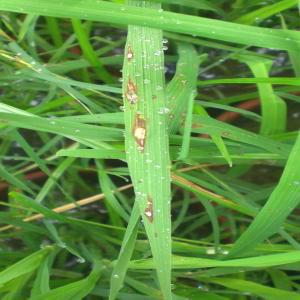1 RiceBlast: (123, 74, 153, 110), (130, 108, 153, 148), (139, 195, 164, 231), (120, 39, 146, 71)
